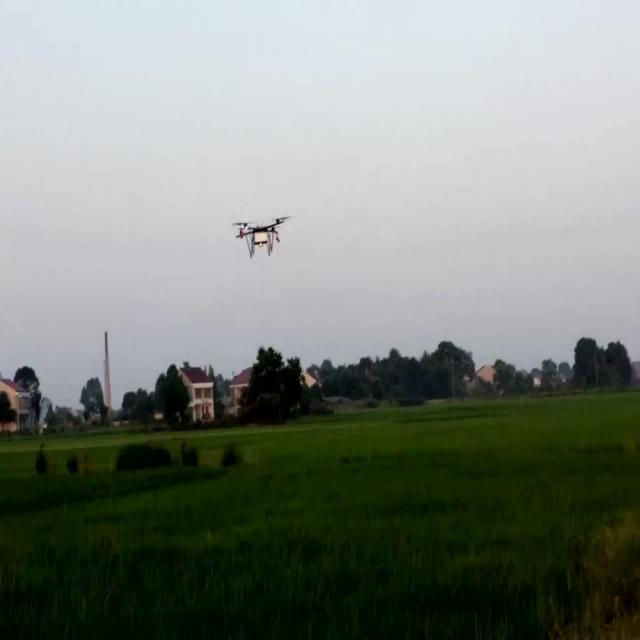drone: (231, 215, 289, 259)
